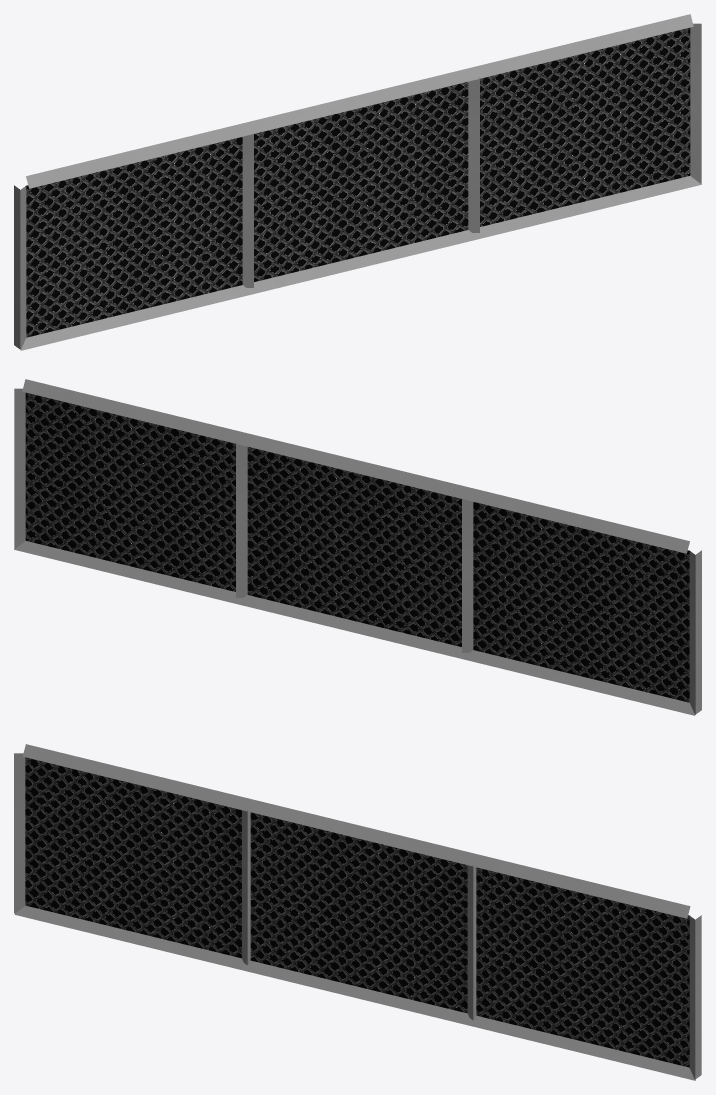
Rendered from fence-chainlink-gate-4m-noPost-cbj_LOD02.gltf.
3 renders of one model, top to bottom at view 1: azimuth 30°, elevation 25°; view 2: azimuth 150°, elevation 25°; view 3: azimuth 330°, elevation 25°, orthographic.
Visible parts, largest first — view 1: chainlink01; view 2: chainlink01; view 3: chainlink01.
Boxes of the visible parts, box(x1,y1,x2,y2) form: chainlink01: box(14, 14, 701, 350); chainlink01: box(14, 379, 701, 715); chainlink01: box(14, 744, 701, 1080).
Size of what is drawn, in the model's own units: 4.2 by 1 by 0.0693.
